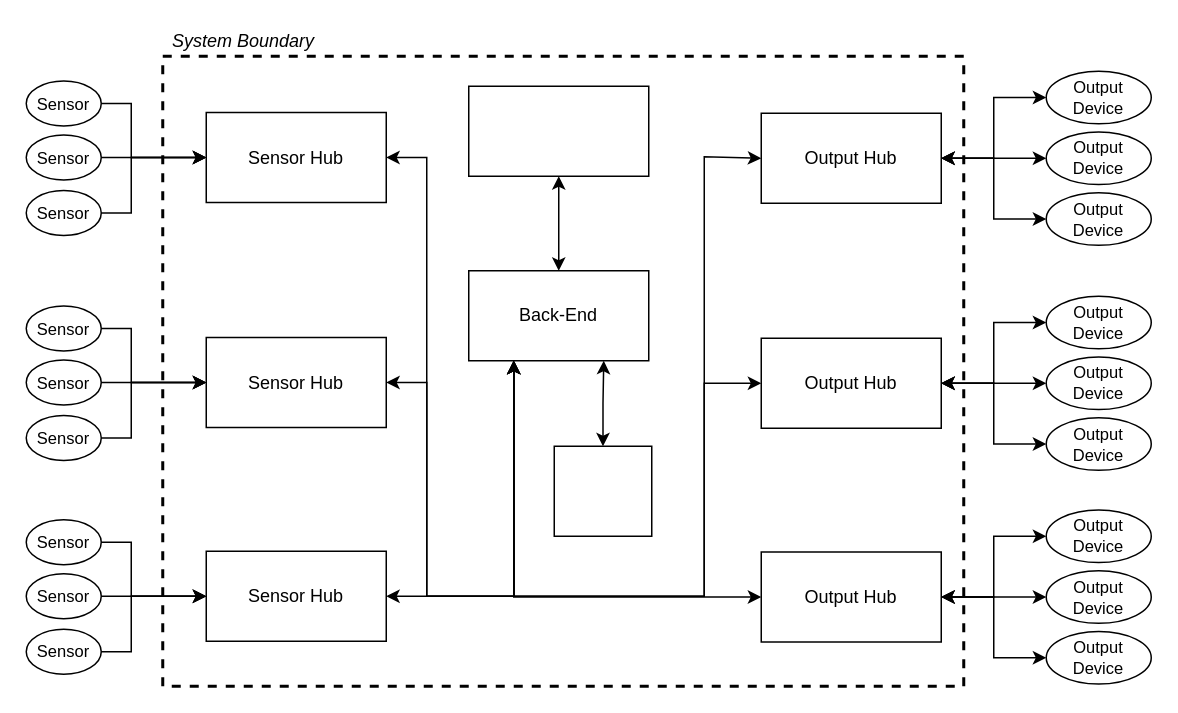
The diagram is 1178 pixels wide and 713 high, and some of its shapes have lost their labels. The box of each missing label's shape, as (x1, y1, x2, y2) in pixels:
Client: (467, 85, 649, 176)
Database: (553, 445, 652, 536)
